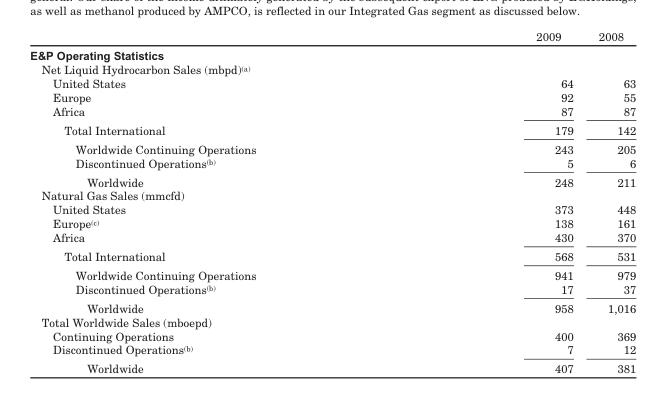table: (29, 29, 635, 374)
table column: (29, 29, 395, 374), (395, 29, 585, 374), (585, 29, 635, 374)
table column header: (29, 29, 635, 45)
table projected row header: (29, 45, 635, 61), (29, 61, 635, 75), (29, 188, 635, 202), (29, 314, 635, 328)
table row: (29, 120, 635, 139), (29, 246, 635, 265), (29, 103, 635, 120), (29, 171, 635, 188), (29, 229, 635, 246), (29, 281, 635, 298), (29, 29, 635, 45), (29, 45, 635, 61), (29, 139, 635, 155), (29, 155, 635, 171), (29, 265, 635, 281), (29, 298, 635, 314), (29, 342, 635, 358), (29, 358, 635, 374), (29, 61, 635, 75), (29, 75, 635, 89), (29, 89, 635, 103), (29, 188, 635, 202), (29, 202, 635, 216), (29, 314, 635, 328), (29, 328, 635, 342), (29, 216, 635, 229)
